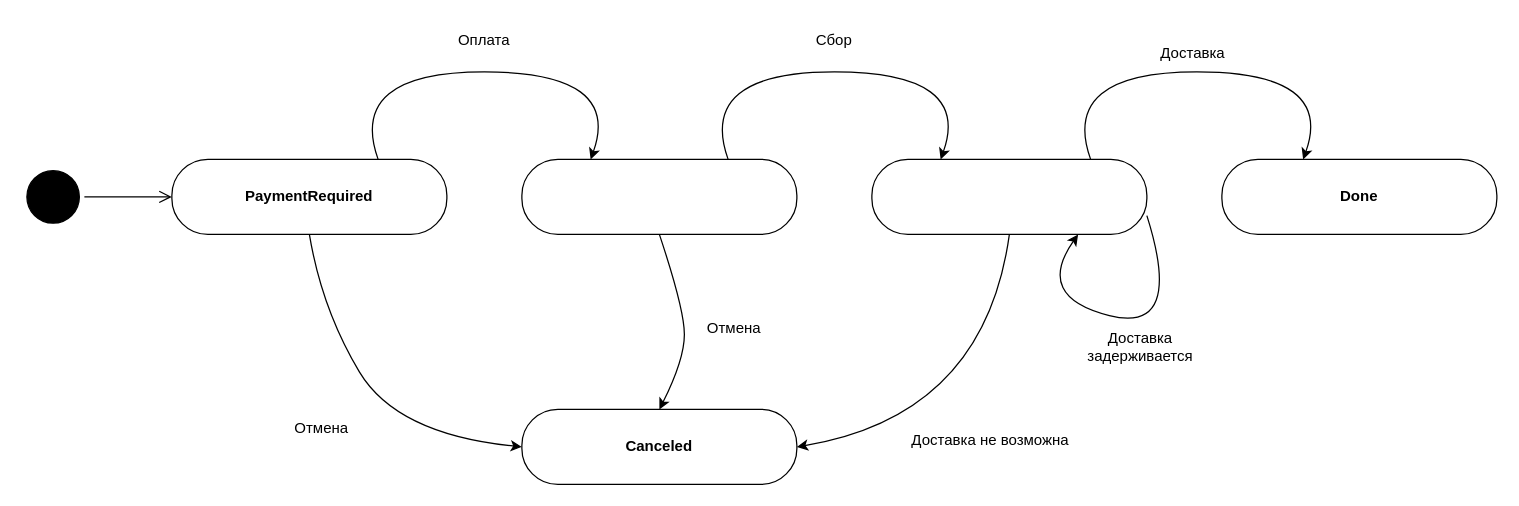
Image size: 1519x506. Some labels were removed from this diagram. The centre of each missing label's shape, as x and y in pixels:
InDelivery: the point at 1009,196
InStorage: the point at 659,196
